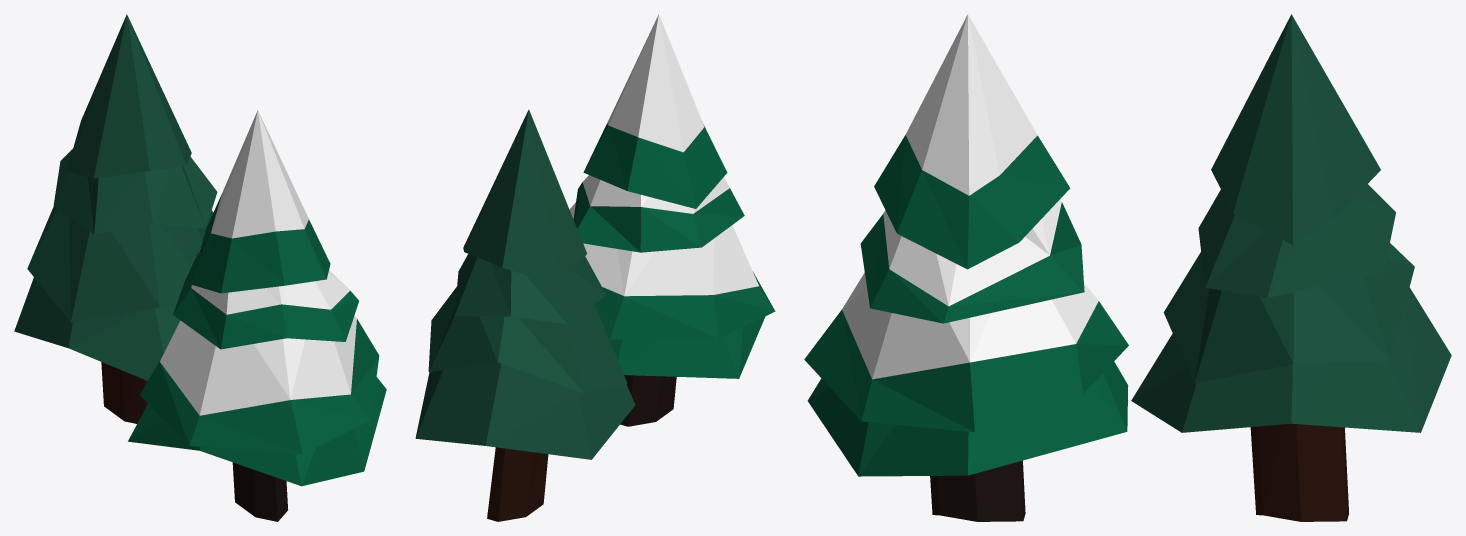
Rendered from pines.FBX.
3 renders of one model, left to right at view 1: azimuth 30°, elevation 25°; view 2: azimuth 150°, elevation 25°; view 3: azimuth 270°, elevation 25°, orthographic. The views are drawn at different scales.
Visible parts, largest first — view 1: Pine_Snowy, Cone001; view 2: Cone001, Pine_Snowy; view 3: Pine_Snowy, Cone001.
Part boxes in pixels (x1,y1,x2,y2): Pine_Snowy: (128, 110, 386, 521); Cone001: (14, 14, 217, 423); Cone001: (415, 109, 635, 521); Pine_Snowy: (569, 14, 775, 426); Pine_Snowy: (804, 14, 1128, 521); Cone001: (1131, 14, 1451, 521).
Bounding box in the file's own units: 50.38 × 82.74 × 97.59.
